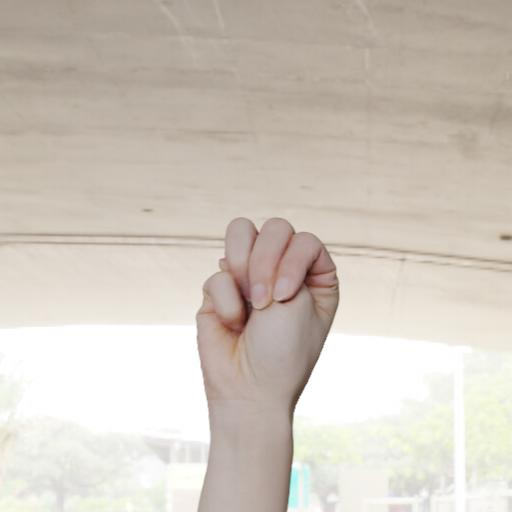M: (194, 213, 344, 415)
